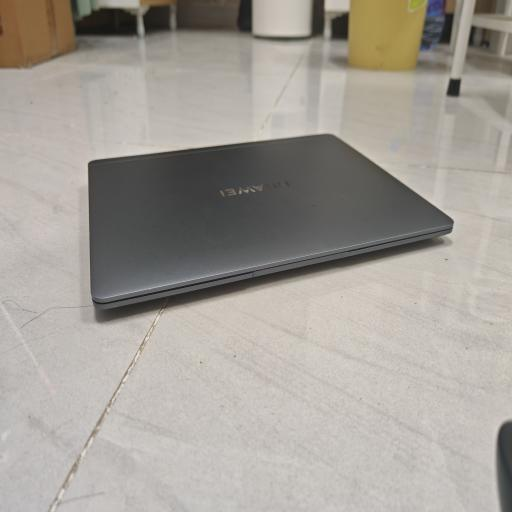laptop: (88, 135, 452, 308)
